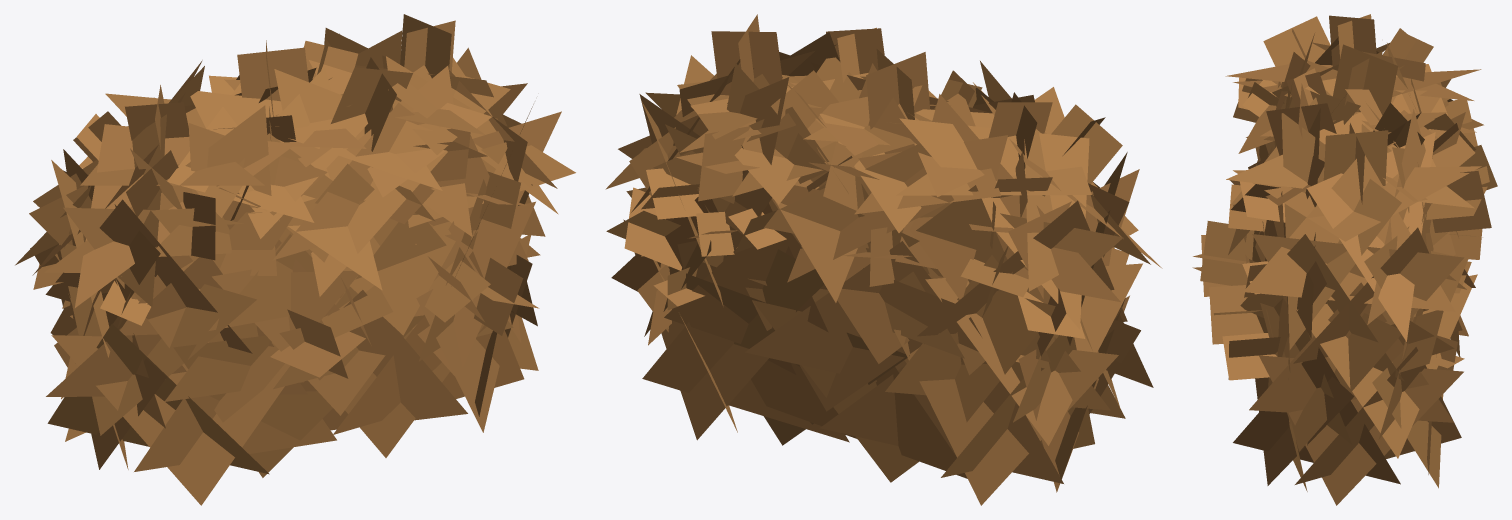
File: Shrub_Wall_Green.glb
3 views of the same model, side by side, from view 1: azimuth 30°, elevation 25°; view 2: azimuth 150°, elevation 25°; view 3: azimuth 270°, elevation 25° (orthographic). The views are drawn at different scales.
Parts seen in each view (by area): view 1: Shrub_Wall_Green; view 2: Shrub_Wall_Green; view 3: Shrub_Wall_Green.
Boxes of the visible parts, x1,y1,x2,y2 form: Shrub_Wall_Green: [15, 14, 575, 505]; Shrub_Wall_Green: [605, 14, 1162, 505]; Shrub_Wall_Green: [1192, 14, 1497, 505].
Bounding box in the file's own units: 1.73 × 1.25 × 0.9529.
